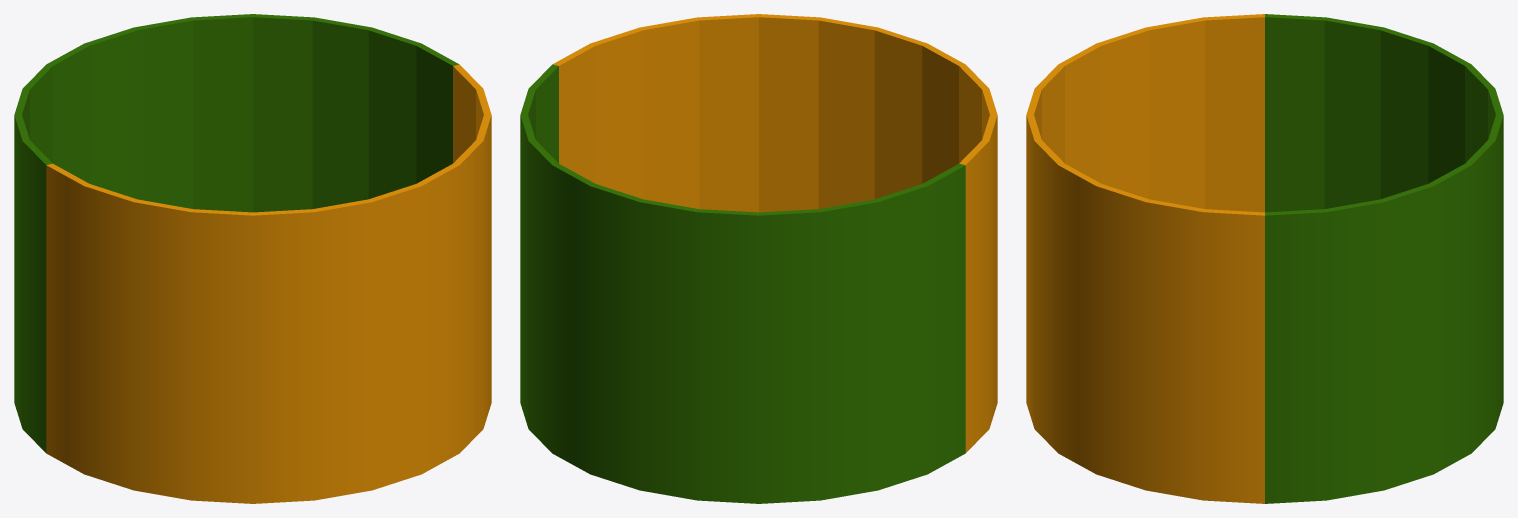
The model's file is Cilinder.fbx.
3 renders of one model, left to right at view 1: azimuth 30°, elevation 25°; view 2: azimuth 150°, elevation 25°; view 3: azimuth 270°, elevation 25°, orthographic.
Parts seen in each view (by area): view 1: Cylinder001; view 2: Cylinder001; view 3: Cylinder001.
Part boxes in pixels (x1,y1,x2,y2): Cylinder001: (14, 14, 491, 503); Cylinder001: (520, 14, 997, 503); Cylinder001: (1026, 14, 1503, 503).
Bounding box in the file's own units: 236 × 158 × 236.
